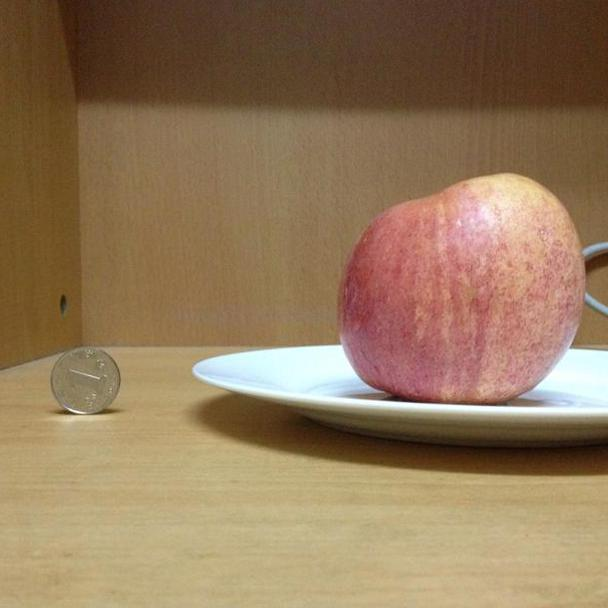apple: (337, 172, 586, 406)
